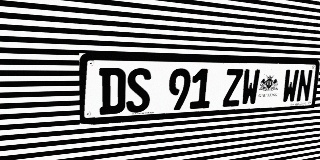1: (190, 68, 212, 109)
9: (168, 68, 191, 110)
D: (99, 68, 126, 115)
N: (296, 69, 313, 103)
S: (126, 68, 151, 113)
W: (240, 69, 260, 106), (281, 69, 299, 103)
Z: (222, 69, 243, 107)
